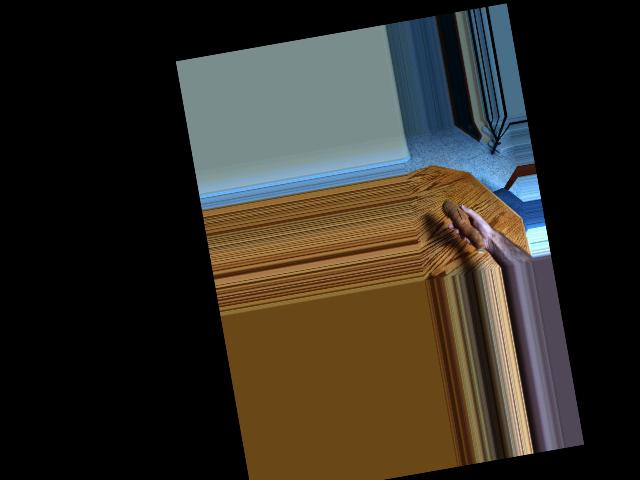sweet_potato: (440, 192, 490, 259)
